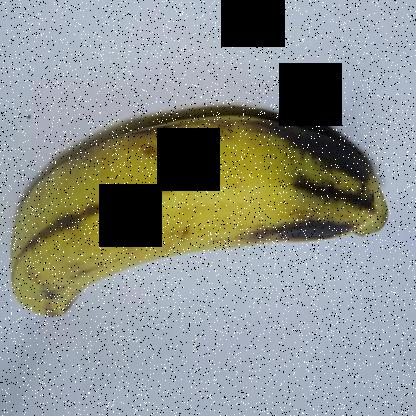ripe: (6, 99, 392, 328)
